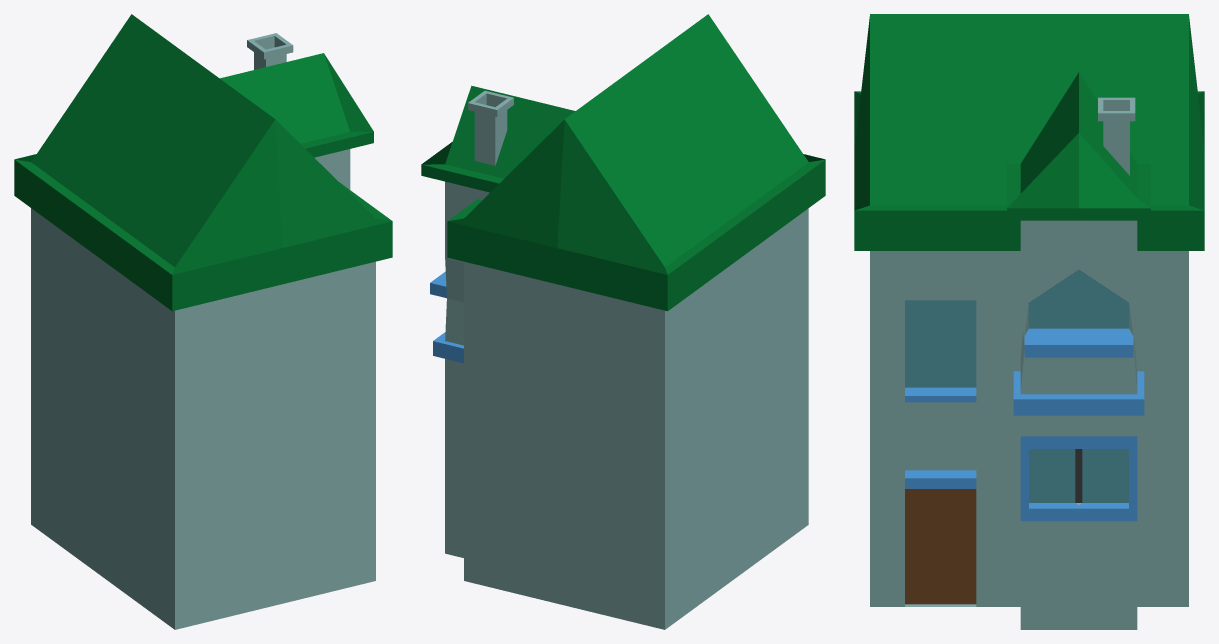
File: House_3.glb
3 views of the same model, side by side, from view 1: azimuth 30°, elevation 25°; view 2: azimuth 150°, elevation 25°; view 3: azimuth 270°, elevation 25° (orthographic). The views are drawn at different scales.
Visible parts, largest first — view 1: House3; view 2: House3; view 3: House3.
Part boxes in pixels (x1,y1,x2,y2): House3: [14, 14, 392, 629]; House3: [421, 14, 825, 629]; House3: [854, 14, 1204, 629].
Bounding box in the file's own units: 3.54 × 6.08 × 3.58.
